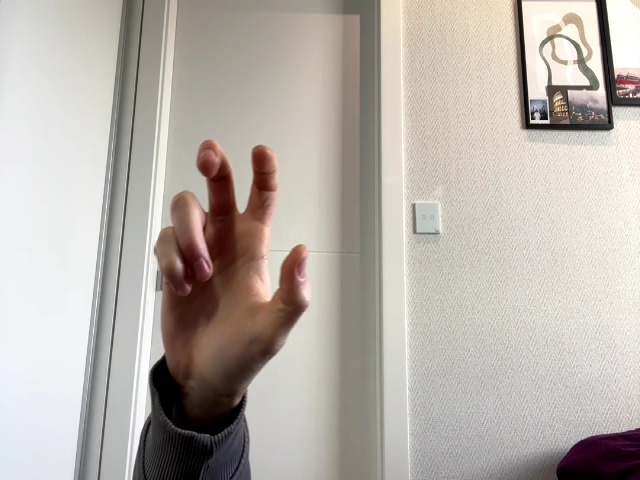CH: (155, 139, 310, 378)
